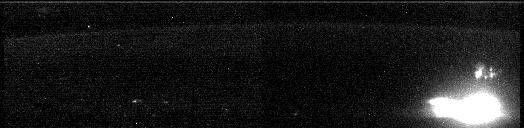positive: (470, 63, 505, 86)
